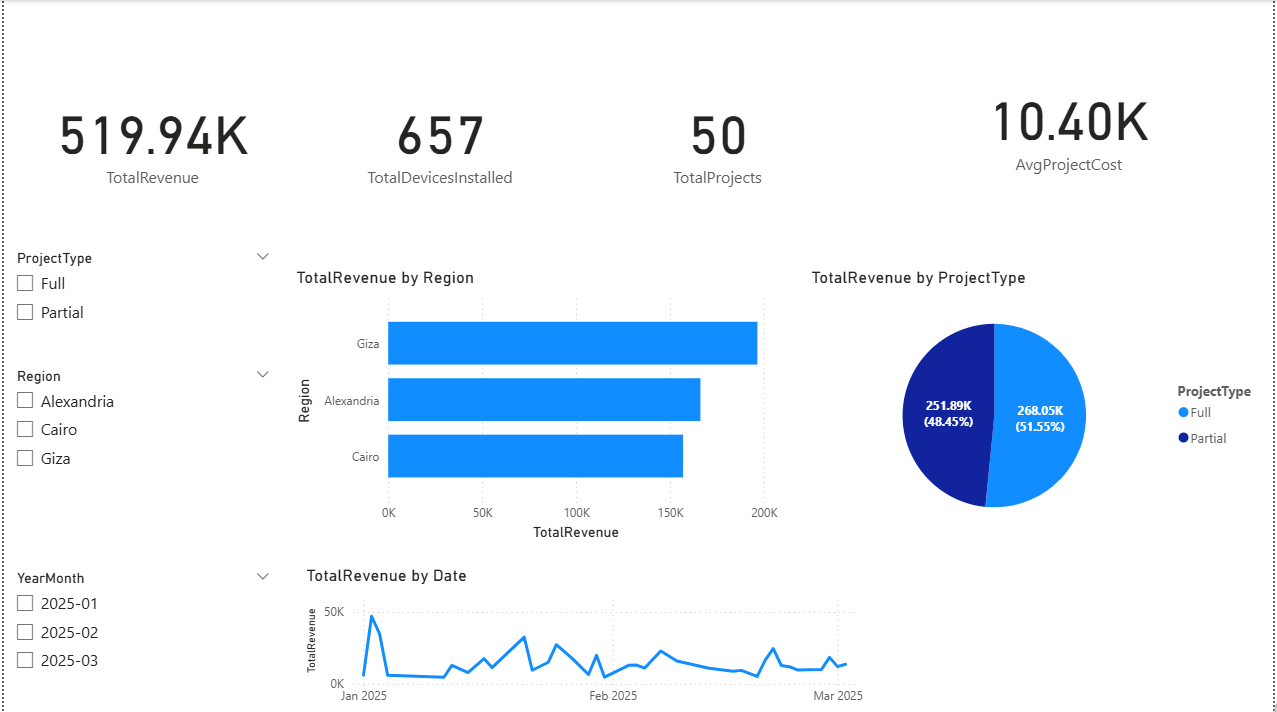

This screenshot's page, from the dashboard's own definition file:
{"tool":"powerbi","page":{"name":"Executive Summary","canvas":[1280,720],"ordinal":0},"visuals":[{"type":"card","fields":{"Values":["Projects.TotalRevenue"]},"box":[10,0,280,280],"z":0},{"type":"card","fields":{"Values":["Projects.TotalProjects"]},"box":[580.2,0,280,280],"z":1000},{"type":"card","fields":{"Values":["Projects.AvgProjectCost"]},"box":[934.7,51.7,280,150.1],"z":2000},{"type":"card","fields":{"Values":["Projects.TotalDevicesInstalled"]},"box":[300,0,280,280],"z":3000},{"type":"lineChart","fields":{"Category":["Date.Date"],"Y":["Projects.TotalRevenue"]},"box":[300.2,570.2,580.2,150.1],"z":5000},{"type":"clusteredBarChart","fields":{"Category":["Region.Region"],"Y":["Projects.TotalRevenue"]},"box":[290.1,269.9,495.7,280],"z":6000},{"type":"pieChart","fields":{"Category":["ProjectType.ProjectType"],"Y":["Projects.TotalRevenue"]},"box":[809.8,269.9,470.5,280],"z":7000},{"type":"slicer","fields":{"Values":["Date.YearMonth"]},"box":[0,570.2,280,150.1],"z":8000},{"type":"slicer","fields":{"Values":["Region.Region"]},"box":[0,365.8,280,193],"z":9000},{"type":"slicer","fields":{"Values":["ProjectType.ProjectType"]},"box":[0,247.2,280,112.3],"z":10000}]}

Visuals, with their boxes in screenshot pixels (x1, y1, x2, y2), scaled from the page's 1280x720 canvas onto the 1277x712 screenshot:
card - Projects.TotalRevenue: (10, 0, 289, 277)
card - Projects.TotalProjects: (579, 0, 858, 277)
card - Projects.AvgProjectCost: (933, 51, 1212, 200)
card - Projects.TotalDevicesInstalled: (299, 0, 579, 277)
lineChart - Date.Date x Projects.TotalRevenue: (299, 564, 878, 711)
clusteredBarChart - Region.Region x Projects.TotalRevenue: (289, 267, 784, 544)
pieChart - ProjectType.ProjectType x Projects.TotalRevenue: (808, 267, 1276, 544)
slicer - Date.YearMonth: (0, 564, 279, 711)
slicer - Region.Region: (0, 362, 279, 553)
slicer - ProjectType.ProjectType: (0, 244, 279, 356)
